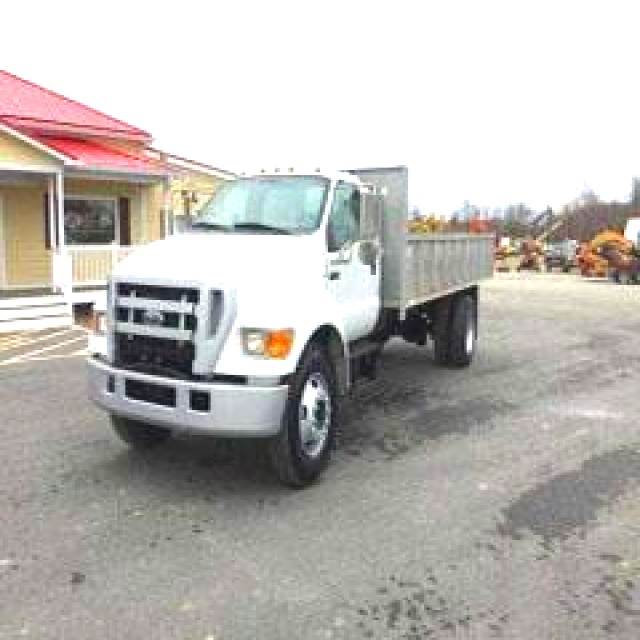truck: (72, 104, 523, 524)
